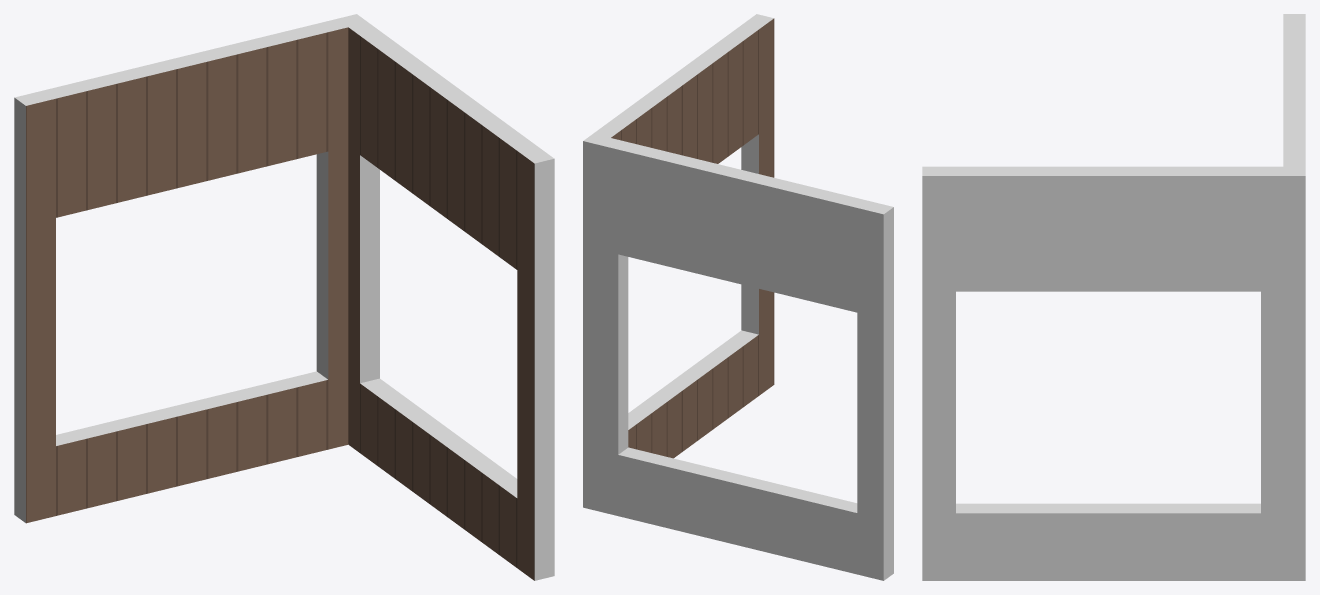
Rendered from Wall1_C9_15.fbx.
3 views of the same model, side by side, from view 1: azimuth 30°, elevation 25°; view 2: azimuth 150°, elevation 25°; view 3: azimuth 270°, elevation 25° (orthographic). The views are drawn at different scales.
Parts seen in each view (by area): view 1: Wall1_C9_15; view 2: Wall1_C9_15; view 3: Wall1_C9_15.
Part boxes in pixels (x1,y1,x2,y2): Wall1_C9_15: [14, 14, 554, 580]; Wall1_C9_15: [583, 14, 893, 580]; Wall1_C9_15: [922, 14, 1305, 580].
Bounding box in the file's own units: 258 × 300 × 258.
